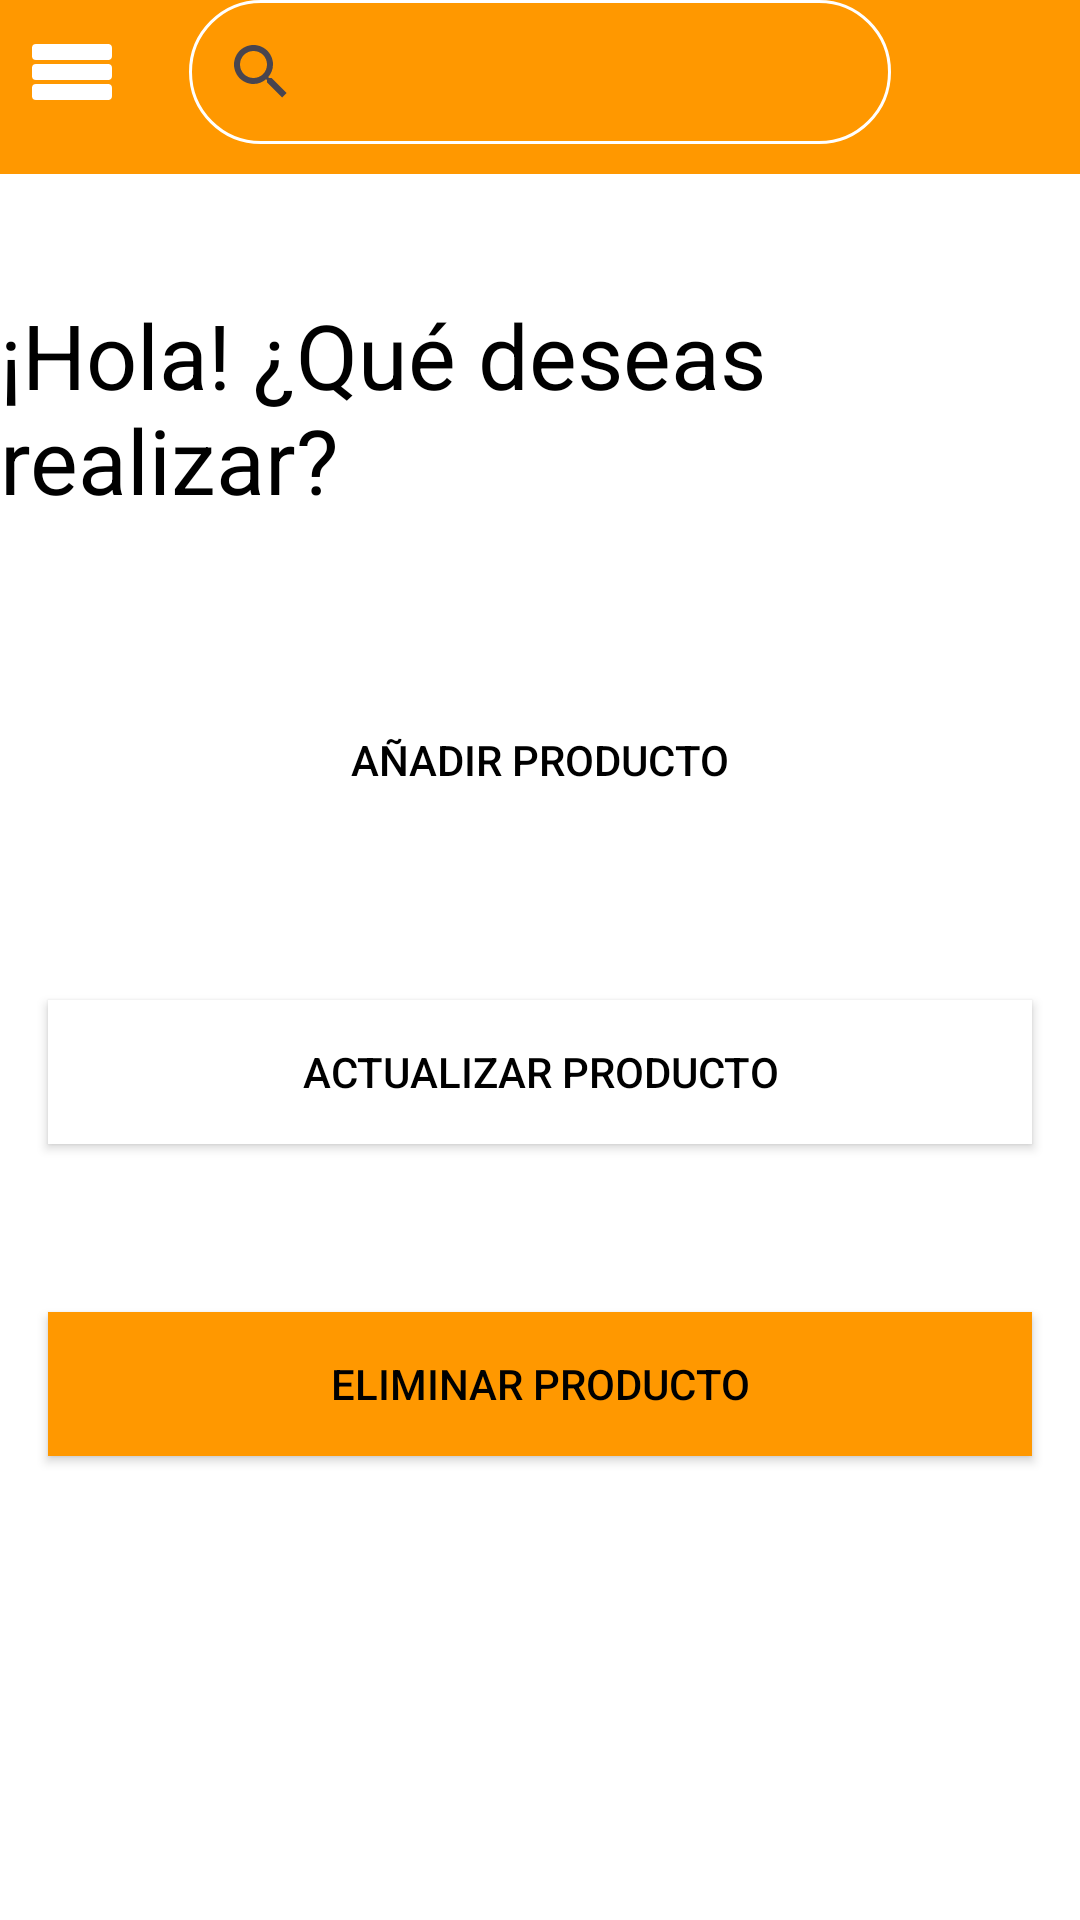

Where to tap for icons on this 1080*1920 app screen, as (x,y):
menu: (72,72)
